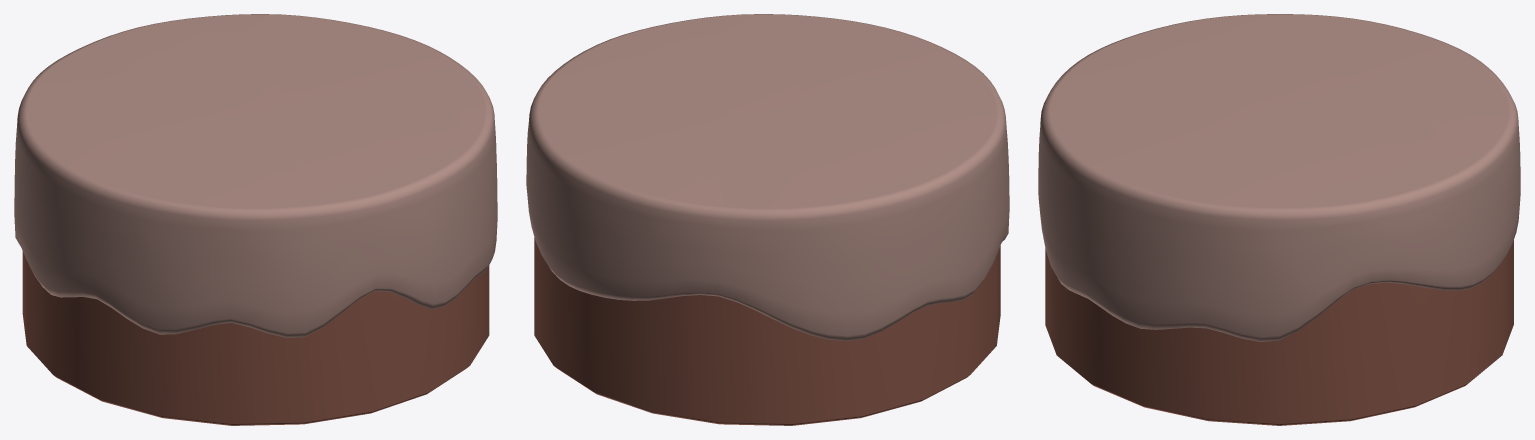
Rendered from Store_5_Cake_1.glb.
The picture shows the model from 3 angles, left to right: view 1: azimuth 30°, elevation 25°; view 2: azimuth 150°, elevation 25°; view 3: azimuth 270°, elevation 25°; orthographic projection.
Parts seen in each view (by area): view 1: Store_5_Cake_1; view 2: Store_5_Cake_1; view 3: Store_5_Cake_1.
Part boxes in pixels (x1,y1,x2,y2): Store_5_Cake_1: [14, 14, 497, 425]; Store_5_Cake_1: [526, 14, 1009, 425]; Store_5_Cake_1: [1038, 14, 1520, 425].
Bounding box in the file's own units: 0.3268 × 0.1623 × 0.3257.
1 material, 1 textured.
